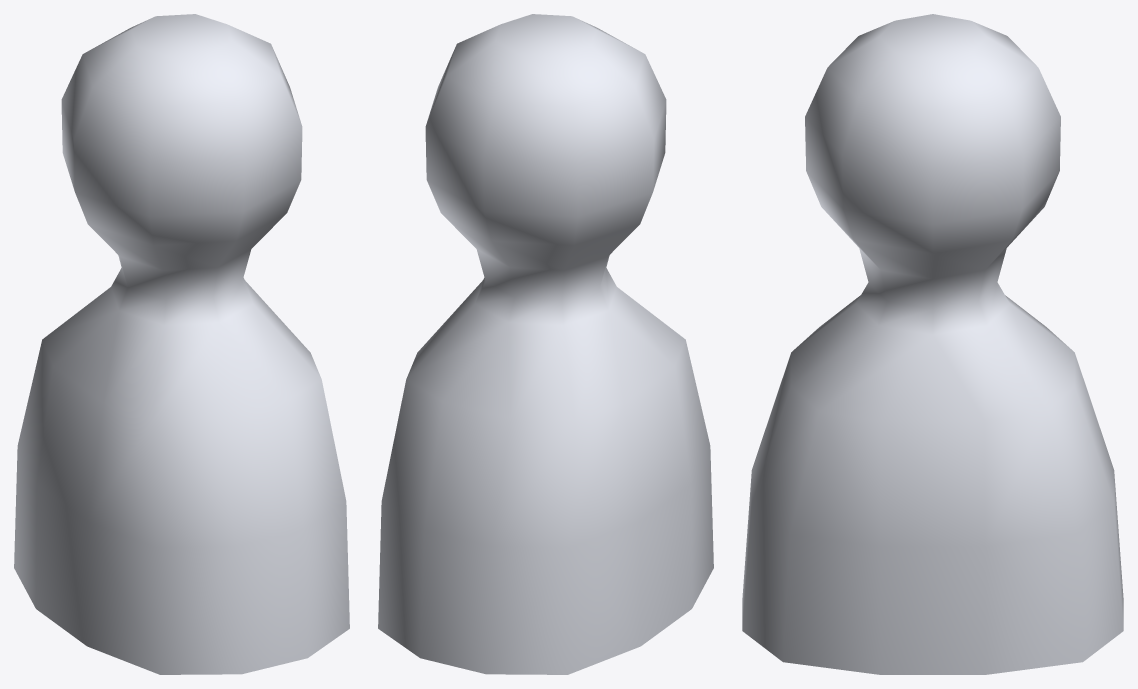
Rendered from Pawn_White.fbx.
3 renders of one model, left to right at view 1: azimuth 30°, elevation 25°; view 2: azimuth 150°, elevation 25°; view 3: azimuth 270°, elevation 25°, orthographic. The views are drawn at different scales.
Visible parts, largest first — view 1: Pawn_White; view 2: Pawn_White; view 3: Pawn_White.
Part boxes in pixels (x1,y1,x2,y2): Pawn_White: [14, 14, 349, 674]; Pawn_White: [378, 14, 713, 674]; Pawn_White: [742, 14, 1123, 674].
Size of the model in its own units: 63.06 by 141 by 84.16.
